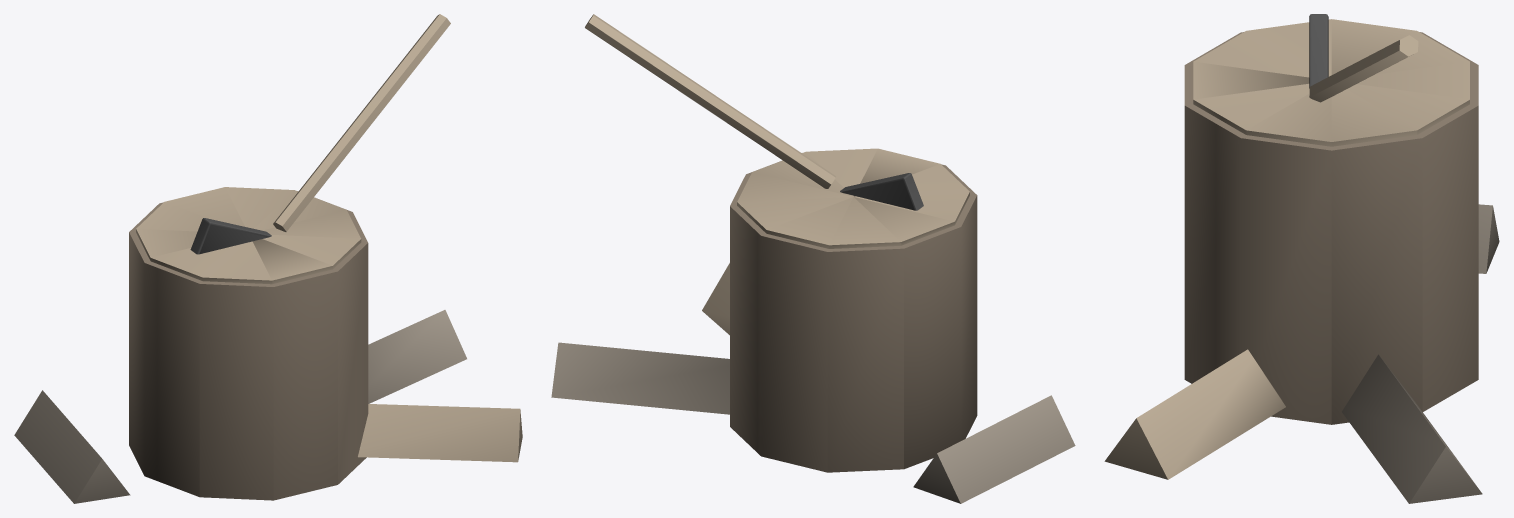
File: chopping_block.glb
The picture shows the model from 3 angles, left to right: view 1: azimuth 30°, elevation 25°; view 2: azimuth 150°, elevation 25°; view 3: azimuth 270°, elevation 25°; orthographic projection. The views are drawn at different scales.
Visible parts, largest first — view 1: static; view 2: static; view 3: static.
Part boxes in pixels (x1,y1,x2,y2): static: (14, 14, 522, 503); static: (551, 14, 1075, 503); static: (1104, 14, 1499, 503).
Size of the model in its own units: 1.02 by 0.7942 by 0.6134.
